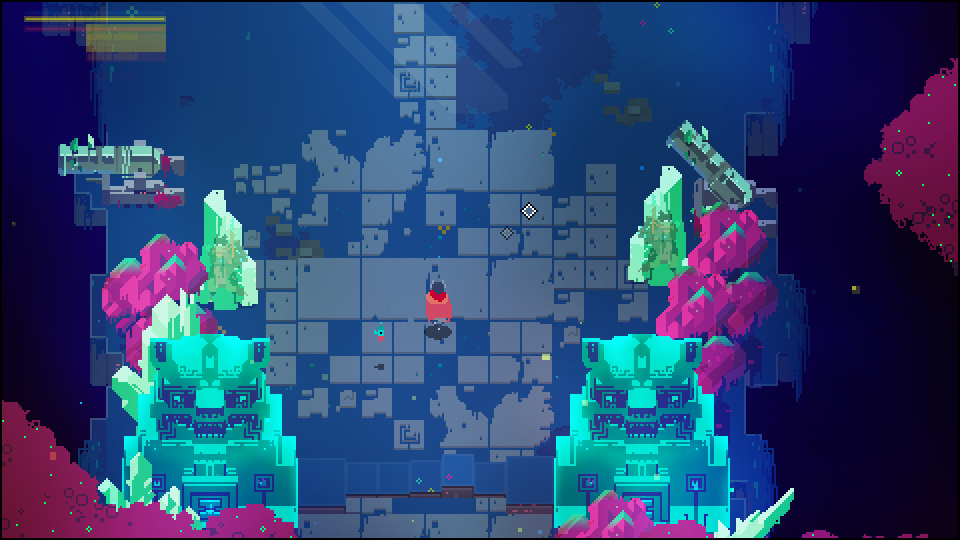player: (424, 284, 451, 334)
